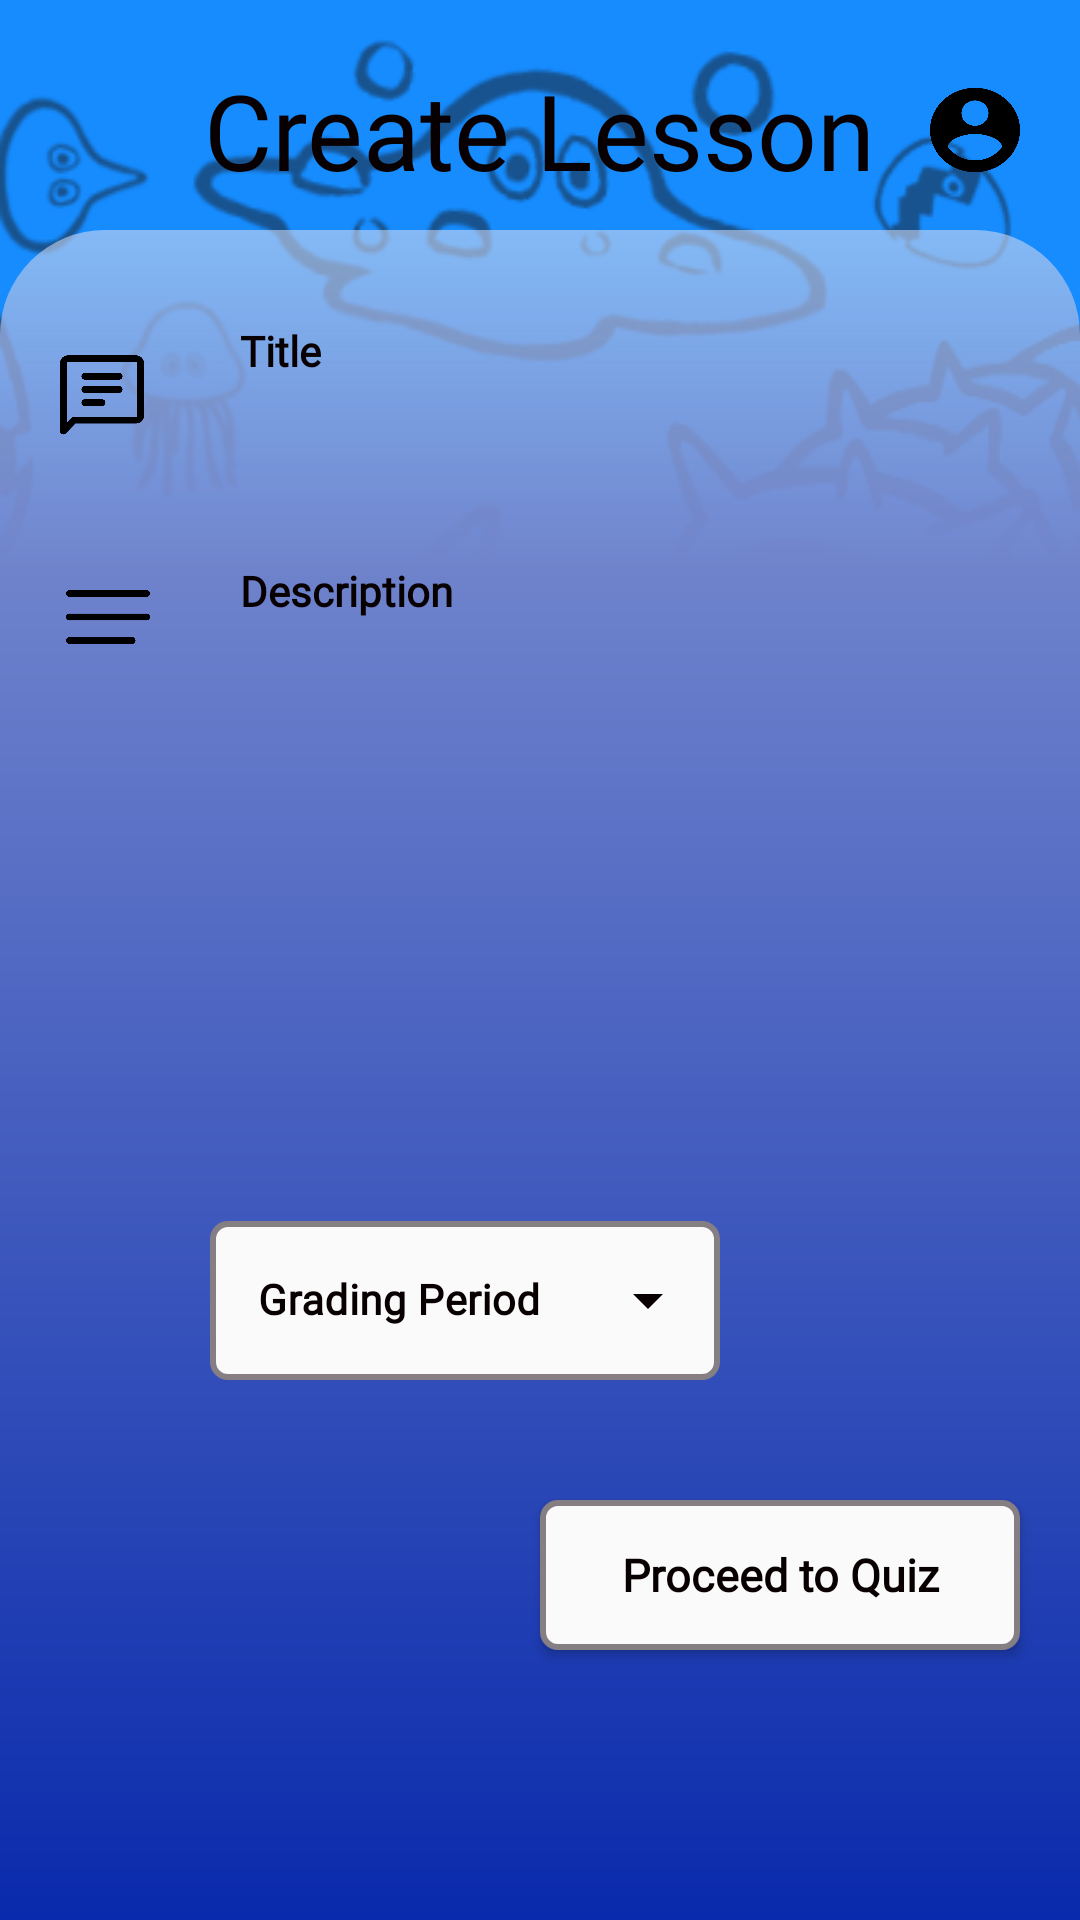

Point at icon controls on the screen. Image size 1080w x 1920h, points as (x=x, y=y).
profile: (x=975, y=131)
